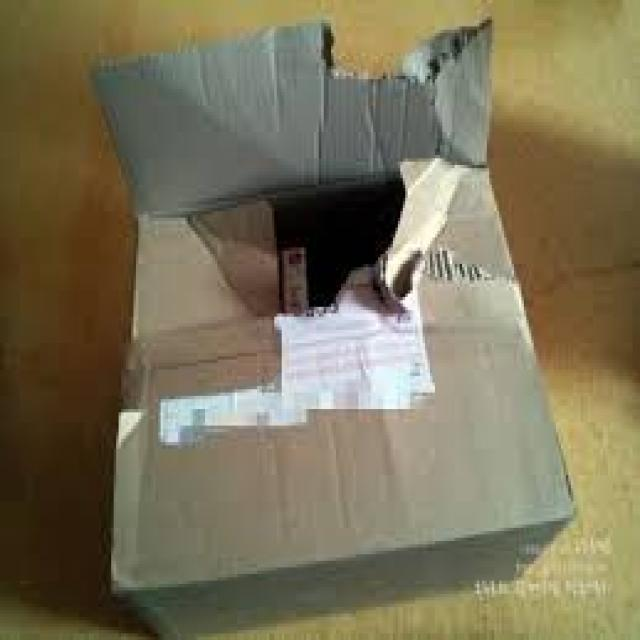damaged: (248, 152, 416, 318)
